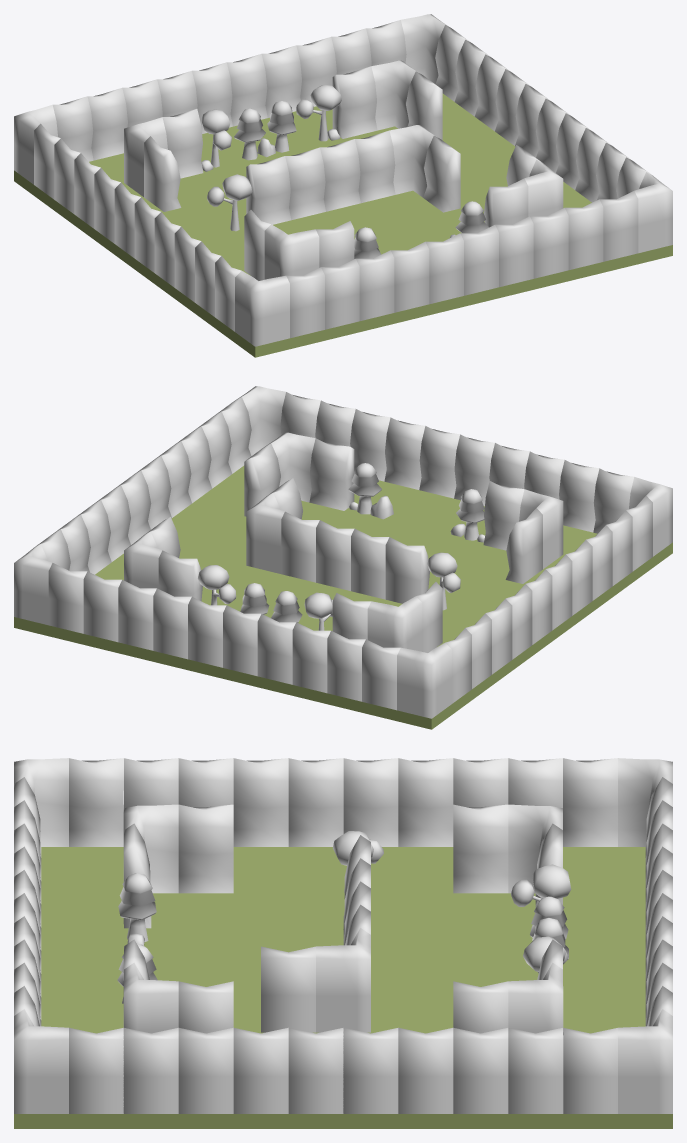
The model's file is LevelDesign.fbx.
The picture shows the model from 3 angles, top to bottom: view 1: azimuth 30°, elevation 25°; view 2: azimuth 150°, elevation 25°; view 3: azimuth 270°, elevation 25°; orthographic projection. The views are drawn at different scales.
Visible parts, largest first — view 1: Ground, Wall_Corner, Wall_Straight.046, Wall_Corner.004, Wall_Straight.048, Wall_Corner.002, Wall_Straight.050, Wall_Straight.051, Wall_Straight.049, Wall_Straight.052, Wall_Corner.008, Wall_Corner.007 (+58 smaller); view 2: Ground, Wall_Corner.003, Wall_Straight.042, Wall_Corner.006, Wall_Corner.008, Wall_Straight.048, Wall_Corner.001, Wall_Straight.010, Wall_Straight.009, Wall_Straight.031, Wall_Straight.003, Wall_Straight.039 (+58 smaller); view 3: Ground, Wall_Corner.002, Wall_Corner.001, Wall_Corner.008, Wall_Straight.043, Wall_Straight.045, Wall_Straight.007, Wall_Straight.014, Wall_Straight, Wall_Straight.020, Wall_Straight.012, Wall_Straight.023 (+57 smaller).
Part boxes in pixels (x1,y1,x2,y2): Ground: (14, 93, 672, 357); Wall_Corner: (235, 271, 289, 346); Wall_Straight.046: (332, 66, 377, 138); Wall_Corner.004: (264, 224, 319, 279); Wall_Straight.048: (246, 156, 290, 224); Wall_Corner.002: (634, 172, 672, 253); Wall_Straight.050: (320, 139, 360, 211); Wall_Straight.051: (355, 130, 395, 203); Wall_Straight.049: (285, 147, 325, 220); Wall_Straight.052: (423, 135, 460, 212); Wall_Corner.008: (389, 125, 438, 197); Wall_Corner.007: (371, 60, 420, 130); Ground: (14, 465, 672, 729); Wall_Corner.003: (397, 643, 451, 718); Wall_Straight.042: (309, 438, 354, 510); Wall_Corner.006: (367, 596, 422, 651); Wall_Corner.008: (246, 493, 284, 573); Wall_Straight.048: (385, 537, 429, 603); Wall_Corner.001: (14, 544, 52, 625); Wall_Straight.010: (384, 417, 425, 489); Wall_Straight.009: (419, 426, 459, 498); Wall_Straight.031: (292, 622, 330, 693); Wall_Straight.003: (559, 460, 599, 532); Wall_Straight.039: (83, 571, 121, 642); Ground: (14, 847, 672, 1128); Wall_Corner.002: (14, 1009, 68, 1113); Wall_Corner.001: (618, 1009, 672, 1113); Wall_Corner.008: (316, 928, 370, 1032); Wall_Straight.043: (178, 804, 233, 893); Wall_Straight.045: (453, 804, 508, 893); Wall_Straight.007: (233, 758, 288, 846); Wall_Straight.014: (398, 758, 453, 846); Wall_Straight: (69, 758, 123, 846); Wall_Straight.020: (563, 758, 617, 846); Wall_Straight.012: (288, 758, 343, 846); Wall_Straight.023: (233, 1027, 288, 1113).
Bounding box in the file's own units: 2400 × 389 × 2400.
